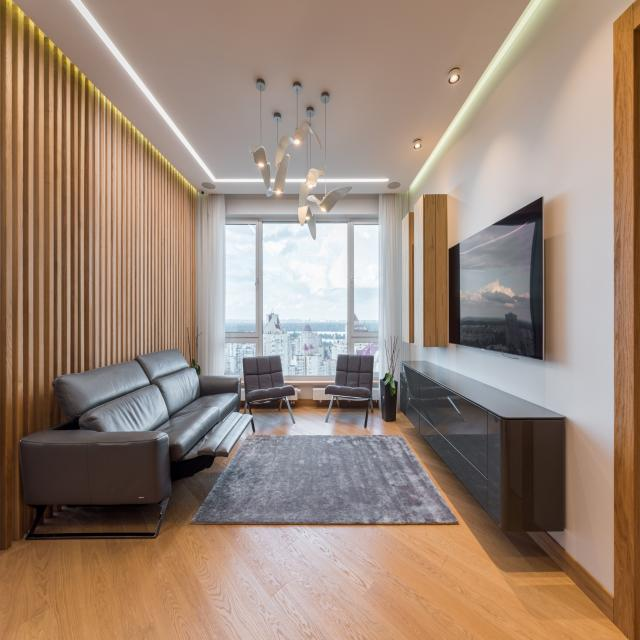floor: (0, 406, 628, 640), (190, 435, 458, 523)
wall: (409, 0, 636, 598), (448, 196, 544, 361), (224, 194, 300, 215), (307, 194, 379, 214), (307, 194, 325, 202)
